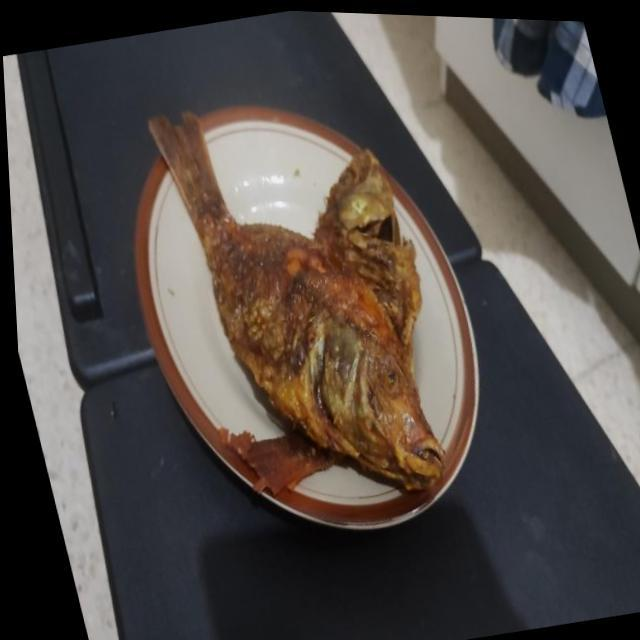ikan_mujair: (150, 114, 443, 485), (242, 150, 422, 492)
